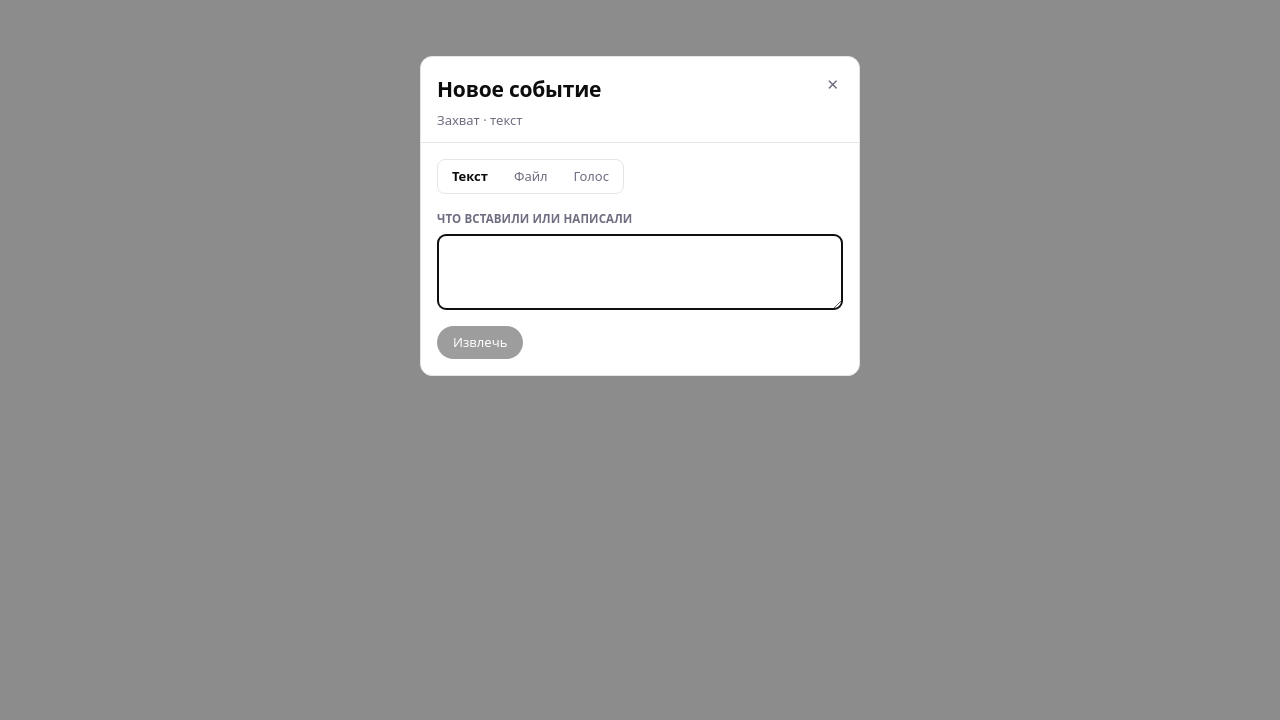
Test: текст -> черновик -> подтверждение › подтверждение уходит со смещением, итог честно говорит «записывается»
Type "встреча с куратором в четверг после физики" into the text box labelled "Что вставили или написали" at (640, 272), box [437,234,843,310]
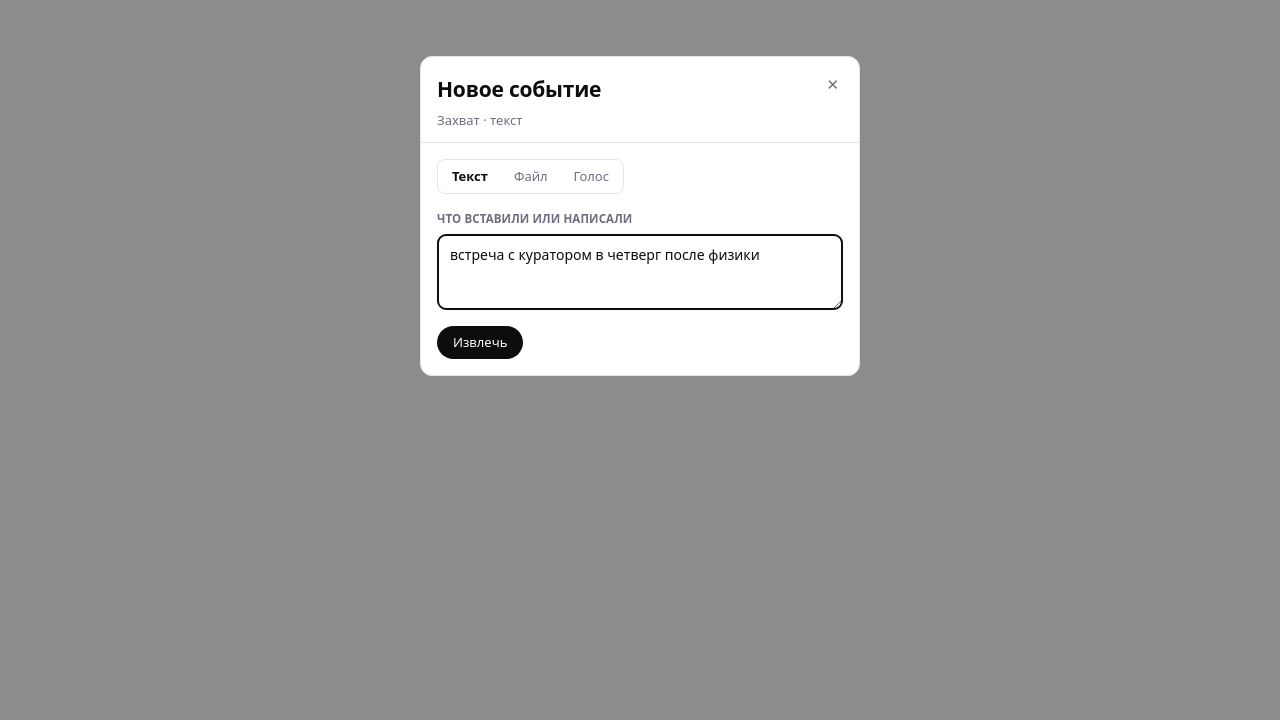
Click the button "Извлечь" at (480, 342), box [437,326,523,359]
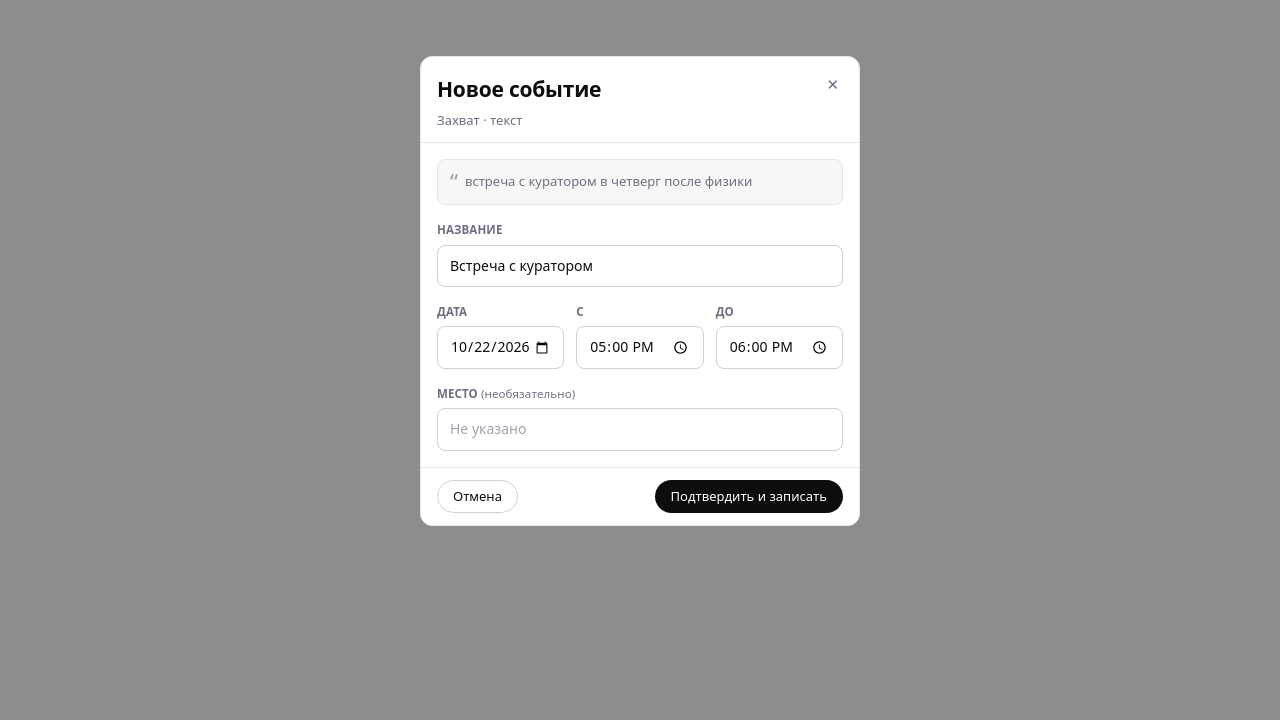
Expected: the field labelled "Название" is shown, [437,245,843,287]
Click the button "Подтвердить и записать" at (749, 496), box [654,480,843,513]
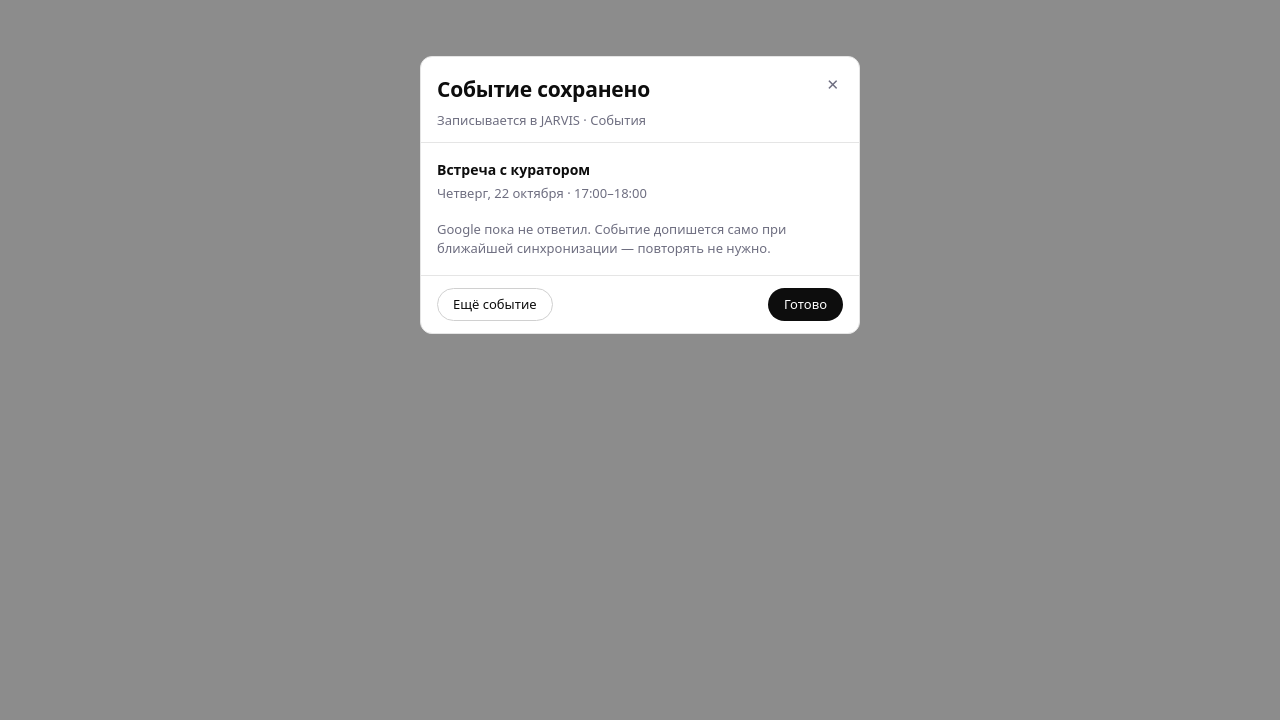
Expected: the heading "Событие сохранено" is shown, [437,73,650,107]
Expected: the text "Четверг, 22 октября · 17:00–18:00" is shown, [437,184,647,202]
Expected: the text "Google пока не ответил" is shown, [437,220,786,257]
